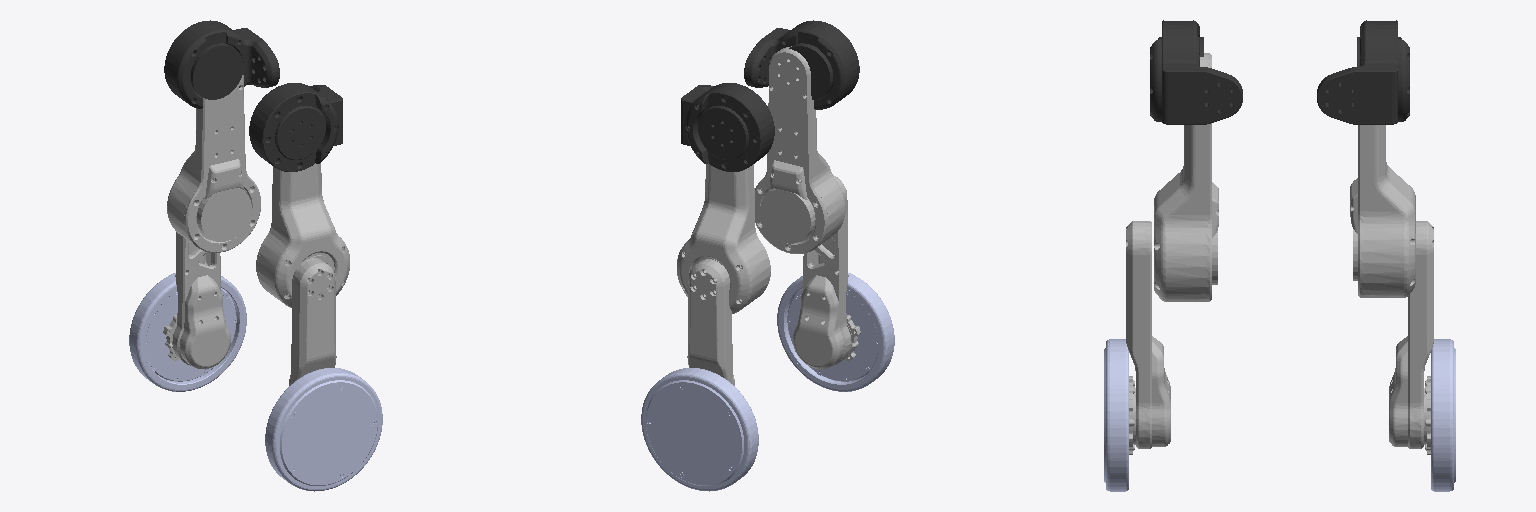
robot.urdf — pineappleurdf:
<?xml version="1.0" encoding="utf-8"?>
<!-- This URDF was automatically created by SolidWorks to URDF Exporter! Originally created by Stephen Brawner (brawner@gmail.com) 
     Commit Version: 1.6.0-4-g7f85cfe  Build Version: 1.6.7995.38578
     For more information, please see http://wiki.ros.org/sw_urdf_exporter -->
<robot
  name="pineappleurdf">
  <mujoco>
  <compiler
    meshdir="../meshes"
    balanceinertia="true"
    discardvisual="false" />
  </mujoco>
  <link
    name="base_link">
    <inertial>
      <origin
        xyz="-0.02228595 0.00164283 0.04544062"
        rpy="0 0 0" />
      <mass
        value="2.85000000" />
      <inertia
        ixx="0.01102779"
        ixy="0.00037426"
        ixz="0.00754430"
        iyy="0.01804185"
        iyz="-0.00052496"
        izz="0.00752637" />
    </inertial>
    <visual>
      <origin
        xyz="0 0 0"
        rpy="0 0 0" />
      <geometry>
        <mesh
          filename="../meshes/base_link.STL" />
      </geometry>
      <material
        name="">
        <color
          rgba="0.752941176470588 0.752941176470588 0.752941176470588 1" />
      </material>
    </visual>
    <collision>
      <origin
        xyz="0 0 0"
        rpy="0 0 0" />
      <geometry>
        <mesh
          filename="../meshes/base_collision.STL" />
      </geometry>
    </collision>
  </link>
  <link
    name="L_hip">
    <inertial>
      <origin
        xyz="0.00055289 -0.00275740 0.00000000"
        rpy="0 0 0" />
      <mass
        value="0.57300000" />
      <inertia
        ixx="0.00058596"
        ixy="-0.00000308"
        ixz="0.00000088"
        iyy="0.00092932"
        iyz="0.000000001"
        izz="0.00066651" />
    </inertial>
    <visual>
      <origin
        xyz="0 0 0"
        rpy="0 0 0" />
      <geometry>
        <mesh
          filename="../meshes/L_hip.STL" />
      </geometry>
      <material
        name="">
        <color
          rgba="0.27843137254902 0.27843137254902 0.27843137254902 1" />
      </material>
    </visual>
  </link>
  <joint
    name="L_hip_joint"
    type="revolute">
    <origin
      xyz="0 0.061249999999998 0.0610009280869146"
      rpy="0 0 0" />
    <parent
      link="base_link" />
    <child
      link="L_hip" />
    <axis
      xyz="1 0 0" />
    <limit
      lower="-0.52358"
      upper="0.17444"
      effort="23.7"
      velocity="30.0" />
  </joint>
  <link
    name="L_thigh">
    <inertial>
      <origin
        xyz="-0.00168662 0.02735711 -0.11773571"
        rpy="0 0 0" />
      <mass
        value="0.75000000" />
      <inertia
        ixx="0.00538335"
        ixy="0.00000040"
        ixz="-0.00000252"
        iyy="0.00561841"
        iyz="0.00033397"
        izz="0.00058483" />
    </inertial>
    <visual>
      <origin
        xyz="0 0 0"
        rpy="0 0 0" />
      <geometry>
        <mesh
          filename="../meshes/L_thigh.STL" />
      </geometry>
      <material
        name="">
        <color
          rgba="0.752941176470588 0.752941176470588 0.752941176470588 1" />
      </material>
    </visual>
    <collision>
      <origin
        xyz="0 0 0"
        rpy="0 0 0" />
      <geometry>
        <mesh
          filename="../meshes/L_thigh_collision.STL" />
      </geometry>
    </collision>
  </link>
  <joint
    name="L_thigh_joint"
    type="revolute">
    <origin
      xyz="0 0.01 0"
      rpy="0 0 0" />
    <parent
      link="L_hip" />
    <child
      link="L_thigh" />
    <axis
      xyz="0 1 0" />
    <limit
      lower="0.0"
      upper="1.571"
      effort="23.7"
      velocity="30.0" />
  </joint>
  <link
    name="L_calf">
    <inertial>
      <origin
        xyz="-0.00006699 0.03201486 -0.12089345"
        rpy="0 0 0" />
      <mass
        value="0.50000000" />
      <inertia
        ixx="0.00341630"
        ixy="-0.00000025"
        ixz="0.00000147"
        iyy="0.00347570"
        iyz="-0.00000900"
        izz="0.00019864" />
    </inertial>
    <visual>
      <origin
        xyz="0 0 0"
        rpy="0 0 0" />
      <geometry>
        <mesh
          filename="../meshes/L_calf.STL" />
      </geometry>
      <material
        name="">
        <color
          rgba="0.752941176470588 0.752941176470588 0.752941176470588 1" />
      </material>
    </visual>
    <collision>
      <origin
        xyz="0 0 0"
        rpy="0 0 0" />
      <geometry>
        <mesh
          filename="../meshes/L_calf_collision.STL" />
      </geometry>
    </collision>
  </link>
  <joint
    name="L_calf_joint"
    type="revolute">
    <origin
      xyz="-0.0016536285573749 0.0388671106492234 -0.190000930017623"
      rpy="0 0 0" />
    <parent
      link="L_thigh" />
    <child
      link="L_calf" />
    <axis
      xyz="0 1 0" />
    <limit
      lower="-3.1416"
      upper="0.0"
      effort="33.5"
      velocity="21.0" />
  </joint>
  <link
    name="L_wheel">
    <inertial>
      <origin
        xyz="0 0.01250278 0"
        rpy="0 0 0" />
      <mass
        value="0.30500000" />
      <inertia
        ixx="0.00053977"
        ixy="-0.0000001"
        ixz="-0.0000001"
        iyy="0.00105427"
        iyz="-0.0000001"
        izz="0.00053980" />
    </inertial>
    <visual>
      <origin
        xyz="0 0 0"
        rpy="0 0 0" />
      <geometry>
        <mesh
          filename="../meshes/L_wheel.STL" />
      </geometry>
      <material
        name="">
        <color
          rgba="0.792156862745098 0.819607843137255 0.933333333333333 1" />
      </material>
    </visual>
    <collision>
        <origin xyz="0 0.013 0" rpy="1.5708 0 0"/>
        <geometry>
          <cylinder radius="0.075" length="0.026"/>
        </geometry>
    </collision>
  </link>
  <joint
    name="L_wheel_joint"
    type="revolute">
    <origin
      xyz="0 0.0421817504179249 -0.190000000000001"
      rpy="0 0 0" />
    <parent
      link="L_calf" />
    <child
      link="L_wheel" />
    <axis
      xyz="0 1 0" />
    <limit
      effort="3.69"
      velocity="60.0" />
  </joint>
  <link
    name="R_hip">
    <inertial>
      <origin
        xyz="0.00055295 0.00275734 0.0000001"
        rpy="0 0 0" />
      <mass
        value="0.57300000" />
      <inertia
        ixx="0.00058596"
        ixy="0.00000308"
        ixz="0.00000087"
        iyy="0.00092932"
        iyz="-0.0000001"
        izz="0.00066651" />
    </inertial>
    <visual>
      <origin
        xyz="0 0 0"
        rpy="0 0 0" />
      <geometry>
        <mesh
          filename="../meshes/R_hip.STL" />
      </geometry>
      <material
        name="">
        <color
          rgba="0.27843137254902 0.27843137254902 0.27843137254902 1" />
      </material>
    </visual>
  </link>
  <joint
    name="R_hip_joint"
    type="revolute">
    <origin
      xyz="0 -0.0612499999999985 0.0610009280869152"
      rpy="0 0 0" />
    <parent
      link="base_link" />
    <child
      link="R_hip" />
    <axis
      xyz="1 0 0" />
    <limit
      lower="-0.17444"
      upper="0.52358"
      effort="23.7"
      velocity="30.0" />
  </joint>
  <link
    name="R_thigh">
    <inertial>
      <origin
        xyz="-0.01168842 -0.03735700 -0.11773770"
        rpy="0 0 0" />
      <mass
        value="0.75000000" />
      <inertia
        ixx="0.00538327"
        ixy="-0.00000039"
        ixz="-0.00000269"
        iyy="0.00561798"
        iyz="-0.00033396"
        izz="0.00058450" />
    </inertial>
    <visual>
      <origin
        xyz="0 0 0"
        rpy="0 0 0" />
      <geometry>
        <mesh
          filename="../meshes/R_thigh.STL" />
      </geometry>
      <material
        name="">
        <color
          rgba="0.752941176470588 0.752941176470588 0.752941176470588 1" />
      </material>
    </visual>
    <collision>
      <origin
        xyz="0 0 0"
        rpy="0 0 0" />
      <geometry>
        <mesh
          filename="../meshes/R_thigh_collision.STL" />
      </geometry>
    </collision>
  </link>
  <joint
    name="R_thigh_joint"
    type="revolute">
    <origin
      xyz="0.01 0 0"
      rpy="0 0 0" />
    <parent
      link="R_hip" />
    <child
      link="R_thigh" />
    <axis
      xyz="0 1 0" />
    <limit
      lower="0.0"
      upper="1.571"
      effort="23.7"
      velocity="30.0" />
  </joint>
  <link
    name="R_calf">
    <inertial>
      <origin
        xyz="0.00008556 -0.03238223 -0.04718516"
        rpy="0 0 0" />
      <mass
        value="0.50000000" />
      <inertia
        ixx="0.00362217"
        ixy="-0.00000004"
        ixz="0.00000547"
        iyy="0.00368544"
        iyz="-0.00000047"
        izz="0.00007514" />
    </inertial>
    <visual>
      <origin
        xyz="0 0 0"
        rpy="0 0 0" />
      <geometry>
        <mesh
          filename="../meshes/R_calf.STL" />
      </geometry>
      <material
        name="">
        <color
          rgba="0.752941176470588 0.752941176470588 0.752941176470588 1" />
      </material>
    </visual>
    <collision>
      <origin
        xyz="0 0 0"
        rpy="0 0 0" />
      <geometry>
        <mesh
          filename="../meshes/R_calf_collision.STL" />
      </geometry>
    </collision>
  </link>
  <joint
    name="R_calf_joint"
    type="revolute">
    <origin
      xyz="-0.0116536285573748 -0.0488671065357543 -0.190000930017624"
      rpy="0 0 0" />
    <parent
      link="R_thigh" />
    <child
      link="R_calf" />
    <axis
      xyz="0 1 0" />
    <limit
      lower="-3.1416"
      upper="0.0"
      effort="33.5"
      velocity="21.0" />
  </joint>
  <link
    name="R_wheel">
    <inertial>
      <origin
        xyz="0.00000000 -0.01250277 0.00000000"
        rpy="0 0 0" />
      <mass
        value="0.30500000" />
      <inertia
        ixx="0.00053977"
        ixy="-0.0000001"
        ixz="0.00000003"
        iyy="0.00105426"
        iyz="-0.0000001"
        izz="0.00053978" />
    </inertial>
    <visual>
      <origin
        xyz="0 0 0"
        rpy="0 0 0" />
      <geometry>
        <mesh
          filename="../meshes/R_wheel.STL" />
      </geometry>
      <material
        name="">
        <color
          rgba="0.792156862745098 0.819607843137255 0.933333333333333 1" />
      </material>
    </visual>
    <collision>
      <origin xyz="0 -0.013 0" rpy="1.5708 0 0"/>
      <geometry>
        <cylinder radius="0.075" length="0.026"/>
      </geometry>
    </collision>
  </link>
  <joint
    name="R_wheel_joint"
    type="revolute">
    <origin
      xyz="0 -0.0421817545313912 -0.190000000000001"
      rpy="0 0 0" />
    <parent
      link="R_calf" />
    <child
      link="R_wheel" />
    <axis
      xyz="0 1 0" />
    <limit
      effort="3.69"
      velocity="60.0" />
  </joint>
    <link
    name="depth_cam">
    <inertial>
      <origin
        xyz="0.00000000 0.00000000 0.00000000"
        rpy="0 0 0" />
      <mass
        value="0.30000000" />
      <inertia
        ixx="0.00018085"
        ixy="0.00000269"
        ixz="0.00000005"
        iyy="0.00002720"
        iyz="-0.0000001"
        izz="0.00018280" />
    </inertial>
    <visual>
      <origin
        xyz="0 0 0"
        rpy="0 0 0" />
      <geometry>
        <mesh
          filename="../meshes/depth_cam.STL" />
      </geometry>
      <material
        name="">
        <color
          rgba="0 1 0 1" />
      </material>
    </visual>
  </link>
  <joint
    name="depth_cam_joint"
    type="fixed">
    <origin
      xyz="0.134942648598871 0 0.120596007530399"
      rpy="0 0.698131700797732 0" />
    <parent
      link="base_link" />
    <child
      link="depth_cam" />
    <axis
      xyz="0 0 0" />
  </joint>
</robot>

--- Render facts (derived) ---
3 views of the same robot in one strip: view 1: azimuth 30°, elevation 25°; view 2: azimuth 150°, elevation 25°; view 3: azimuth 270°, elevation 25° (orthographic).
Model pineappleurdf with 10 links and 9 joints (8 revolute, 1 fixed), rooted at base_link, posed every joint at zero.
Visible links, largest first — view 1: R_wheel, L_thigh, R_thigh, L_hip, R_hip, L_wheel, L_calf, R_calf; view 2: R_thigh, L_wheel, L_thigh, L_hip, R_calf, R_wheel, R_hip, L_calf; view 3: R_thigh, L_thigh, R_calf, L_hip, R_hip, L_calf, L_wheel, R_wheel.
Link boxes in pixels (x1,y1,x2,y2): R_wheel: [265, 368, 382, 491]; L_thigh: [167, 75, 260, 252]; R_thigh: [256, 163, 349, 307]; L_hip: [164, 20, 279, 108]; R_hip: [249, 83, 342, 171]; L_wheel: [129, 273, 246, 391]; L_calf: [163, 232, 230, 368]; R_calf: [289, 258, 336, 385]; R_thigh: [755, 46, 845, 253]; L_wheel: [641, 368, 758, 491]; L_thigh: [677, 163, 770, 313]; L_hip: [681, 83, 774, 171]; R_calf: [793, 175, 860, 368]; R_wheel: [777, 273, 894, 391]; R_hip: [744, 20, 859, 109]; L_calf: [687, 259, 734, 385]; R_thigh: [1154, 53, 1218, 301]; L_thigh: [1350, 125, 1415, 297]; R_calf: [1126, 221, 1170, 454]; L_hip: [1317, 20, 1409, 124]; R_hip: [1150, 20, 1242, 124]; L_calf: [1389, 221, 1433, 454]; L_wheel: [1431, 339, 1455, 491]; R_wheel: [1104, 339, 1128, 491].
Size in the robot's own frame: 0.154 by 0.3566 by 0.509 metres.
8 mesh visuals loaded from 10 distinct referenced files (8 binary STL); not drawn: 2 (reference not matched to a file when rendering).
